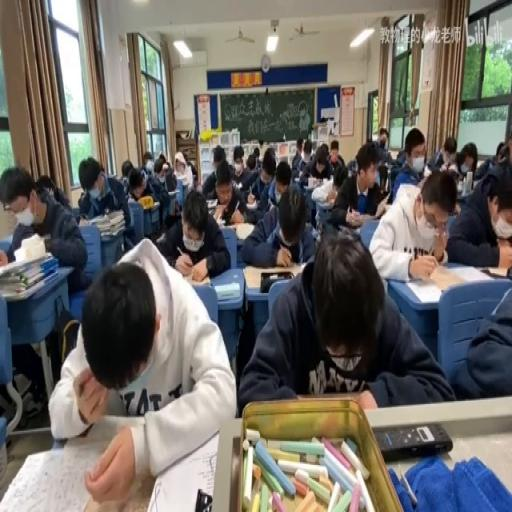calculator: (400, 264, 496, 303), (242, 265, 301, 290), (481, 260, 512, 279), (214, 282, 240, 300), (180, 270, 210, 284), (234, 222, 256, 240), (312, 192, 334, 208), (356, 208, 378, 224), (374, 195, 388, 219), (138, 196, 158, 209), (211, 205, 226, 222), (174, 174, 189, 190), (219, 220, 235, 230), (76, 215, 90, 226), (244, 199, 258, 209), (387, 149, 398, 161), (308, 176, 318, 188), (154, 233, 165, 243), (205, 199, 217, 208)
paper: (50, 236, 236, 499), (240, 232, 450, 414), (2, 164, 88, 292), (367, 168, 456, 282), (446, 158, 512, 269), (155, 185, 229, 279), (239, 180, 315, 268), (80, 154, 136, 248), (330, 138, 388, 225), (302, 142, 336, 184), (226, 145, 253, 192), (430, 135, 458, 175), (394, 131, 419, 168), (452, 142, 477, 179), (387, 160, 407, 194), (274, 161, 290, 193), (128, 171, 146, 199), (290, 138, 304, 173), (34, 175, 54, 199), (373, 134, 389, 164), (152, 156, 168, 180), (494, 139, 510, 161), (474, 159, 491, 179), (172, 150, 186, 174), (376, 162, 387, 192), (186, 161, 198, 186), (163, 169, 176, 192), (332, 171, 346, 192), (142, 150, 154, 174), (121, 158, 134, 180), (213, 152, 223, 172), (347, 158, 357, 176), (245, 155, 254, 171), (267, 145, 276, 161), (334, 154, 344, 168)
person: (373, 420, 452, 460), (194, 488, 211, 512)
